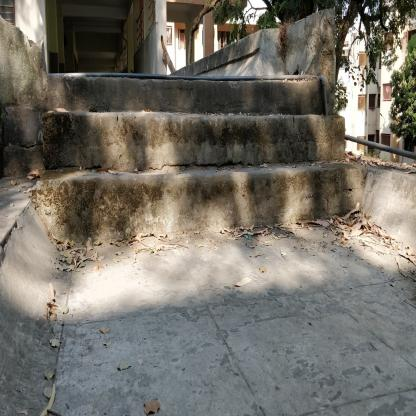stairs: (51, 73, 325, 251)
